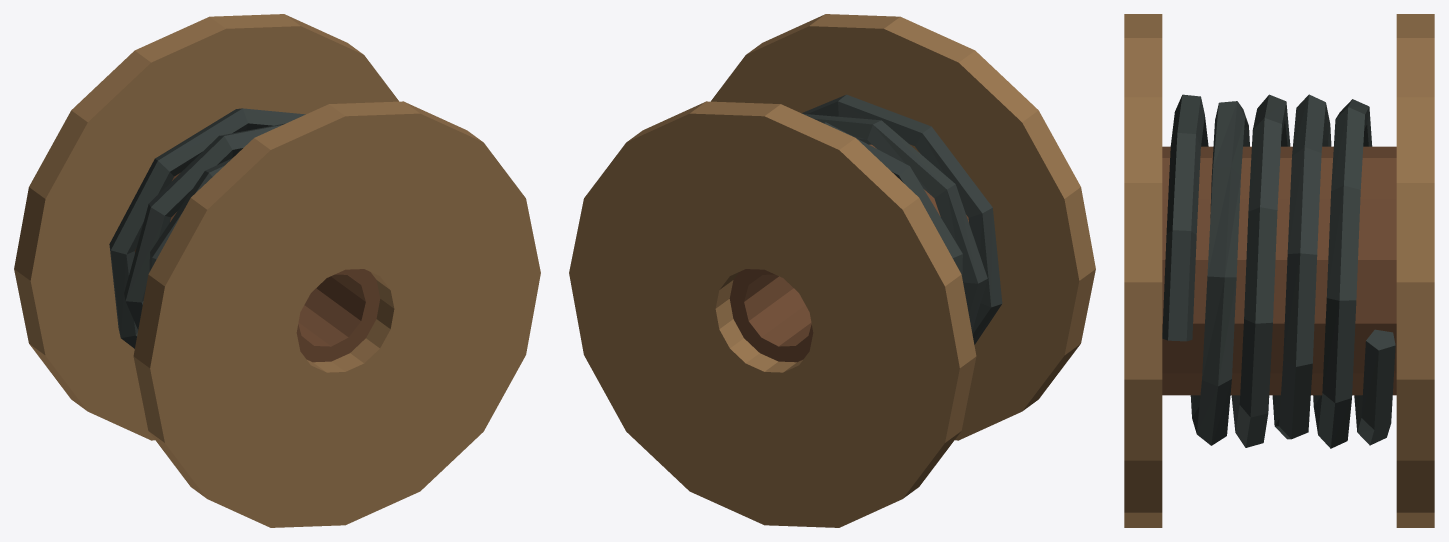
File: Prop_Daily_CableReel_001_LOD1.glb
3 views of the same model, side by side, from view 1: azimuth 30°, elevation 25°; view 2: azimuth 150°, elevation 25°; view 3: azimuth 270°, elevation 25° (orthographic). The views are drawn at different scales.
Parts seen in each view (by area): view 1: Prop_Daily_CableReel_001_LOD1; view 2: Prop_Daily_CableReel_001_LOD1; view 3: Prop_Daily_CableReel_001_LOD1.
Boxes of the visible parts, left/top/right/bottom form: Prop_Daily_CableReel_001_LOD1: left=14, top=14, right=540, bottom=527; Prop_Daily_CableReel_001_LOD1: left=569, top=14, right=1095, bottom=527; Prop_Daily_CableReel_001_LOD1: left=1124, top=14, right=1434, bottom=527.
Size of the model in its own units: 1.36 by 1.36 by 0.82.
